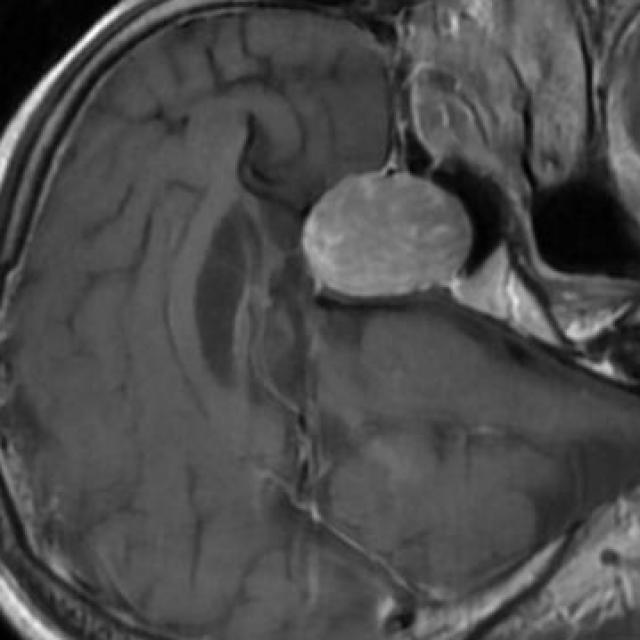pituitary: (305, 169, 469, 294)
